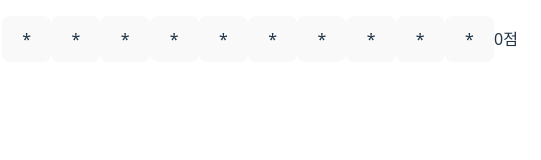
Scenario: 공연 목록 상세 페이지 - 별점 › 별점 버튼 클릭 시, 해당 점수로 표시된다.
Click the 3rd button "*": (125, 39) [100,16,150,62]
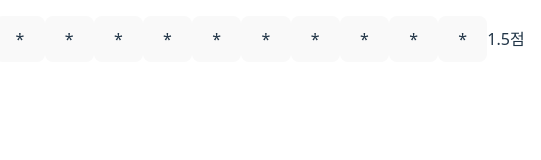
expect the text "1.5점" is shown: met, box [487,28,525,50]
